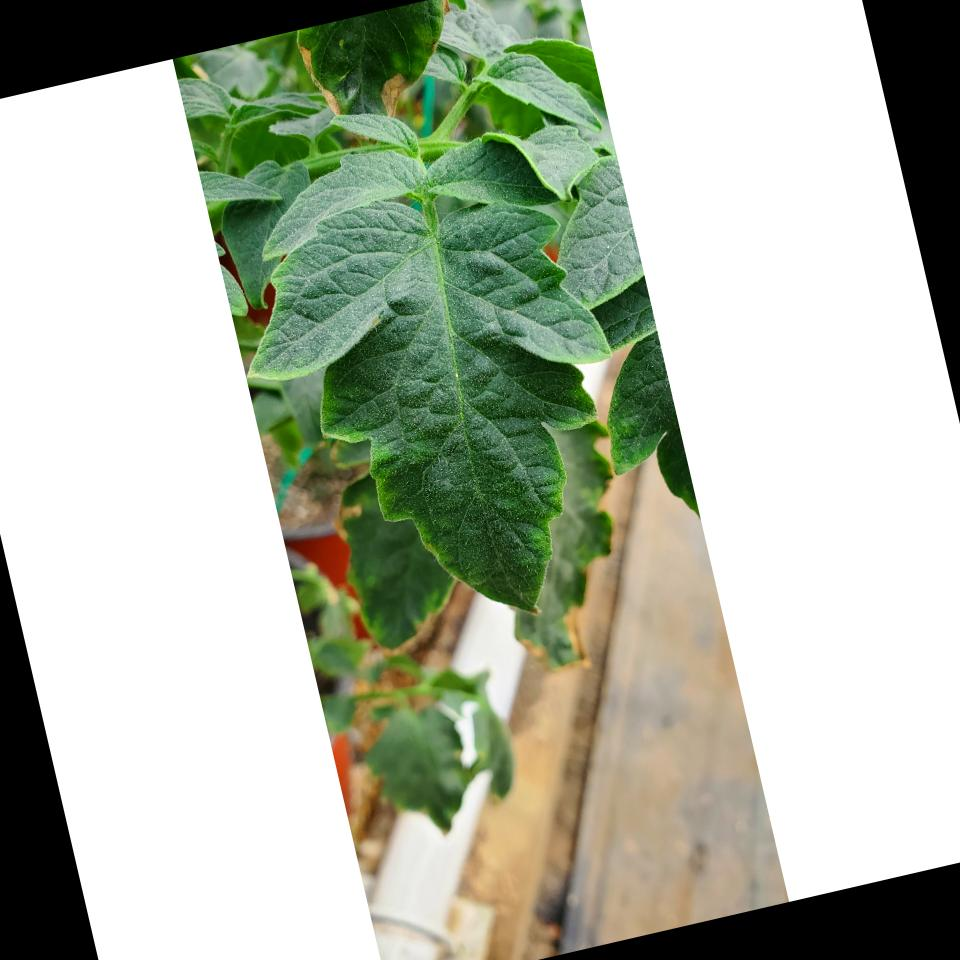tomato_leaves: (228, 110, 644, 651)
